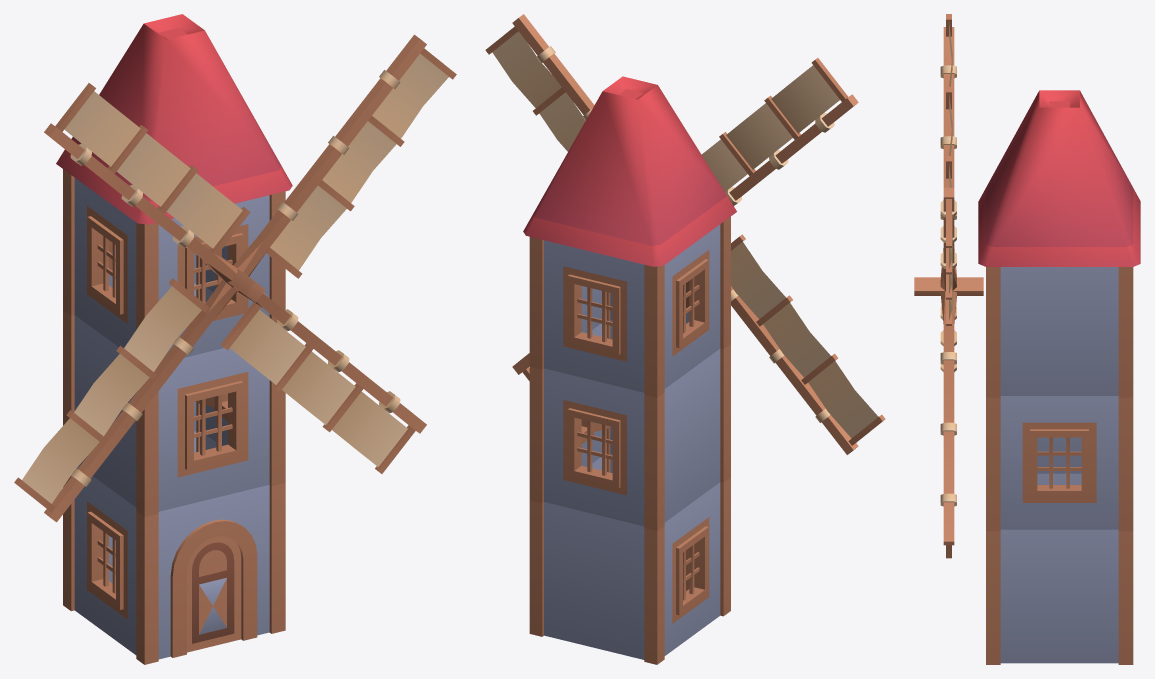
Rendered from windmill.glb.
3 views of the same model, side by side, from view 1: azimuth 30°, elevation 25°; view 2: azimuth 150°, elevation 25°; view 3: azimuth 270°, elevation 25° (orthographic). The views are drawn at different scales.
Parts seen in each view (by area): view 1: windmill; view 2: windmill; view 3: windmill.
Boxes of the visible parts, <box> form: windmill: <box>14,14,456,664</box>; windmill: <box>485,14,885,664</box>; windmill: <box>914,14,1140,664</box>.
Bounding box in the file's own units: 9.34 × 12.47 × 4.61.
Materials: 14 (14 with a texture image).
